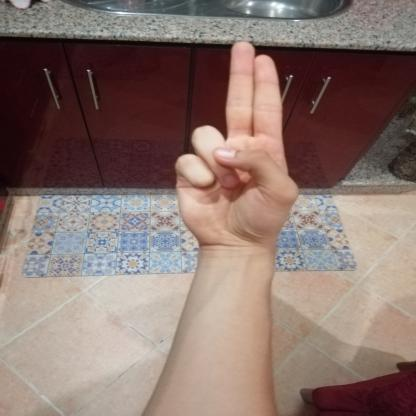TA: (156, 32, 309, 254)
